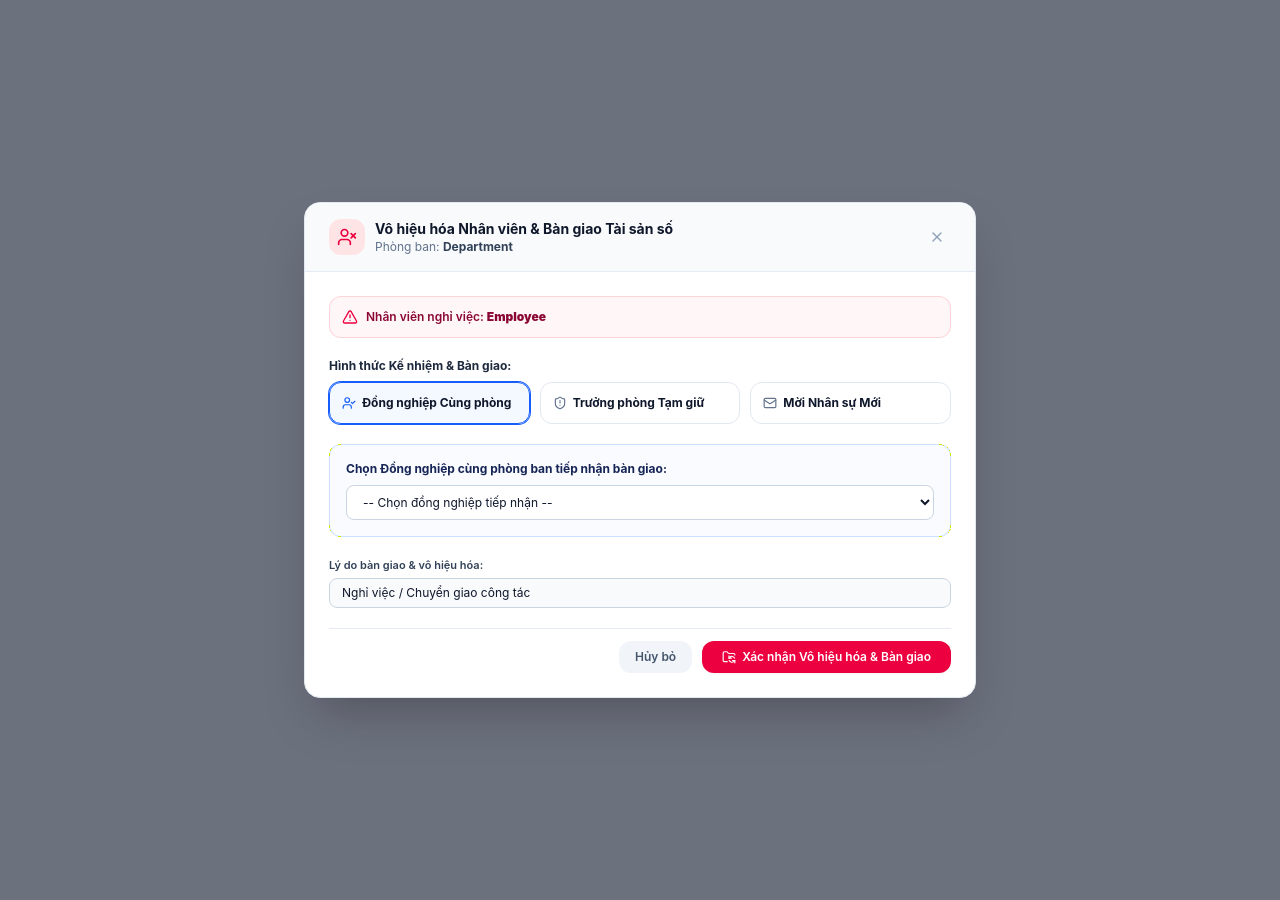
Scenario: Offboarding quota accounting display › shows reusable quota separately from retained quota and the old personal grant
Select "Peer (employee@test.example) -" in the dropdown at (640, 503), box [346,485,934,520]
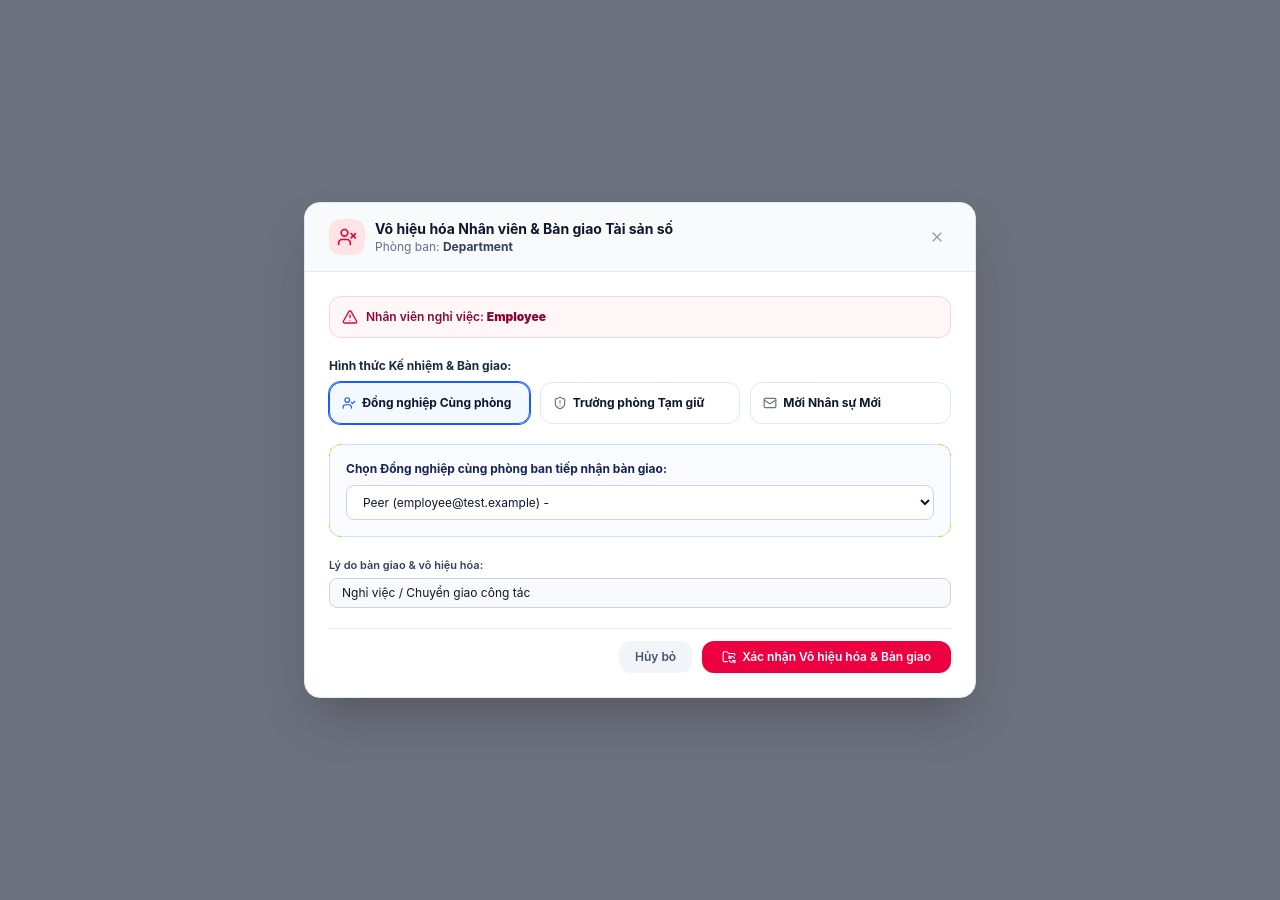
Click the button "Xác nhận Vô hiệu hóa & Bàn giao" at (827, 657), box [702,641,951,673]
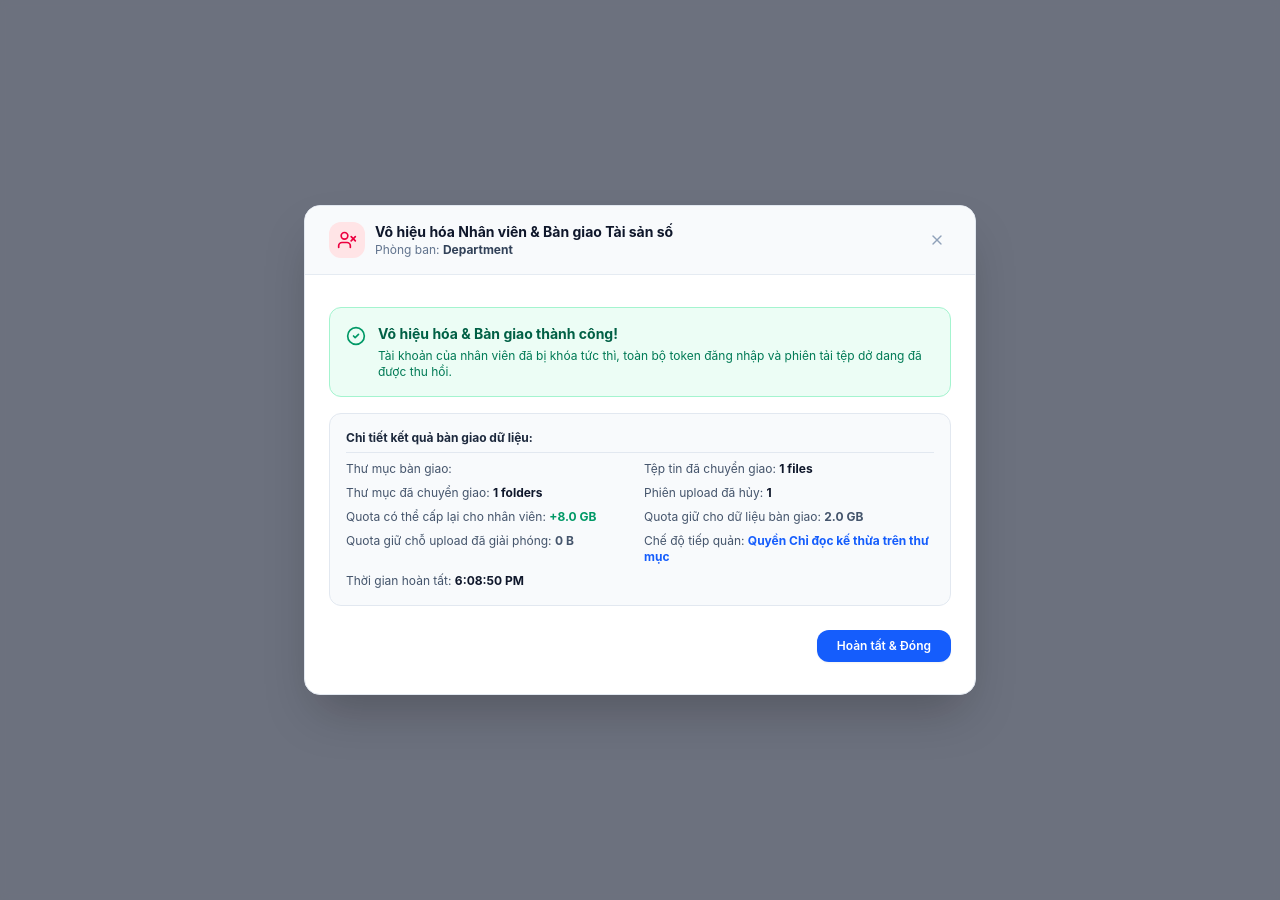
Check: the text "Quota có thể cấp lại cho nhân viên: +8.0 GB" is shown, box [346,509,636,525]
Check: the text "Quota giữ cho dữ liệu bàn giao: 2.0 GB" is shown, box [644,509,863,524]
